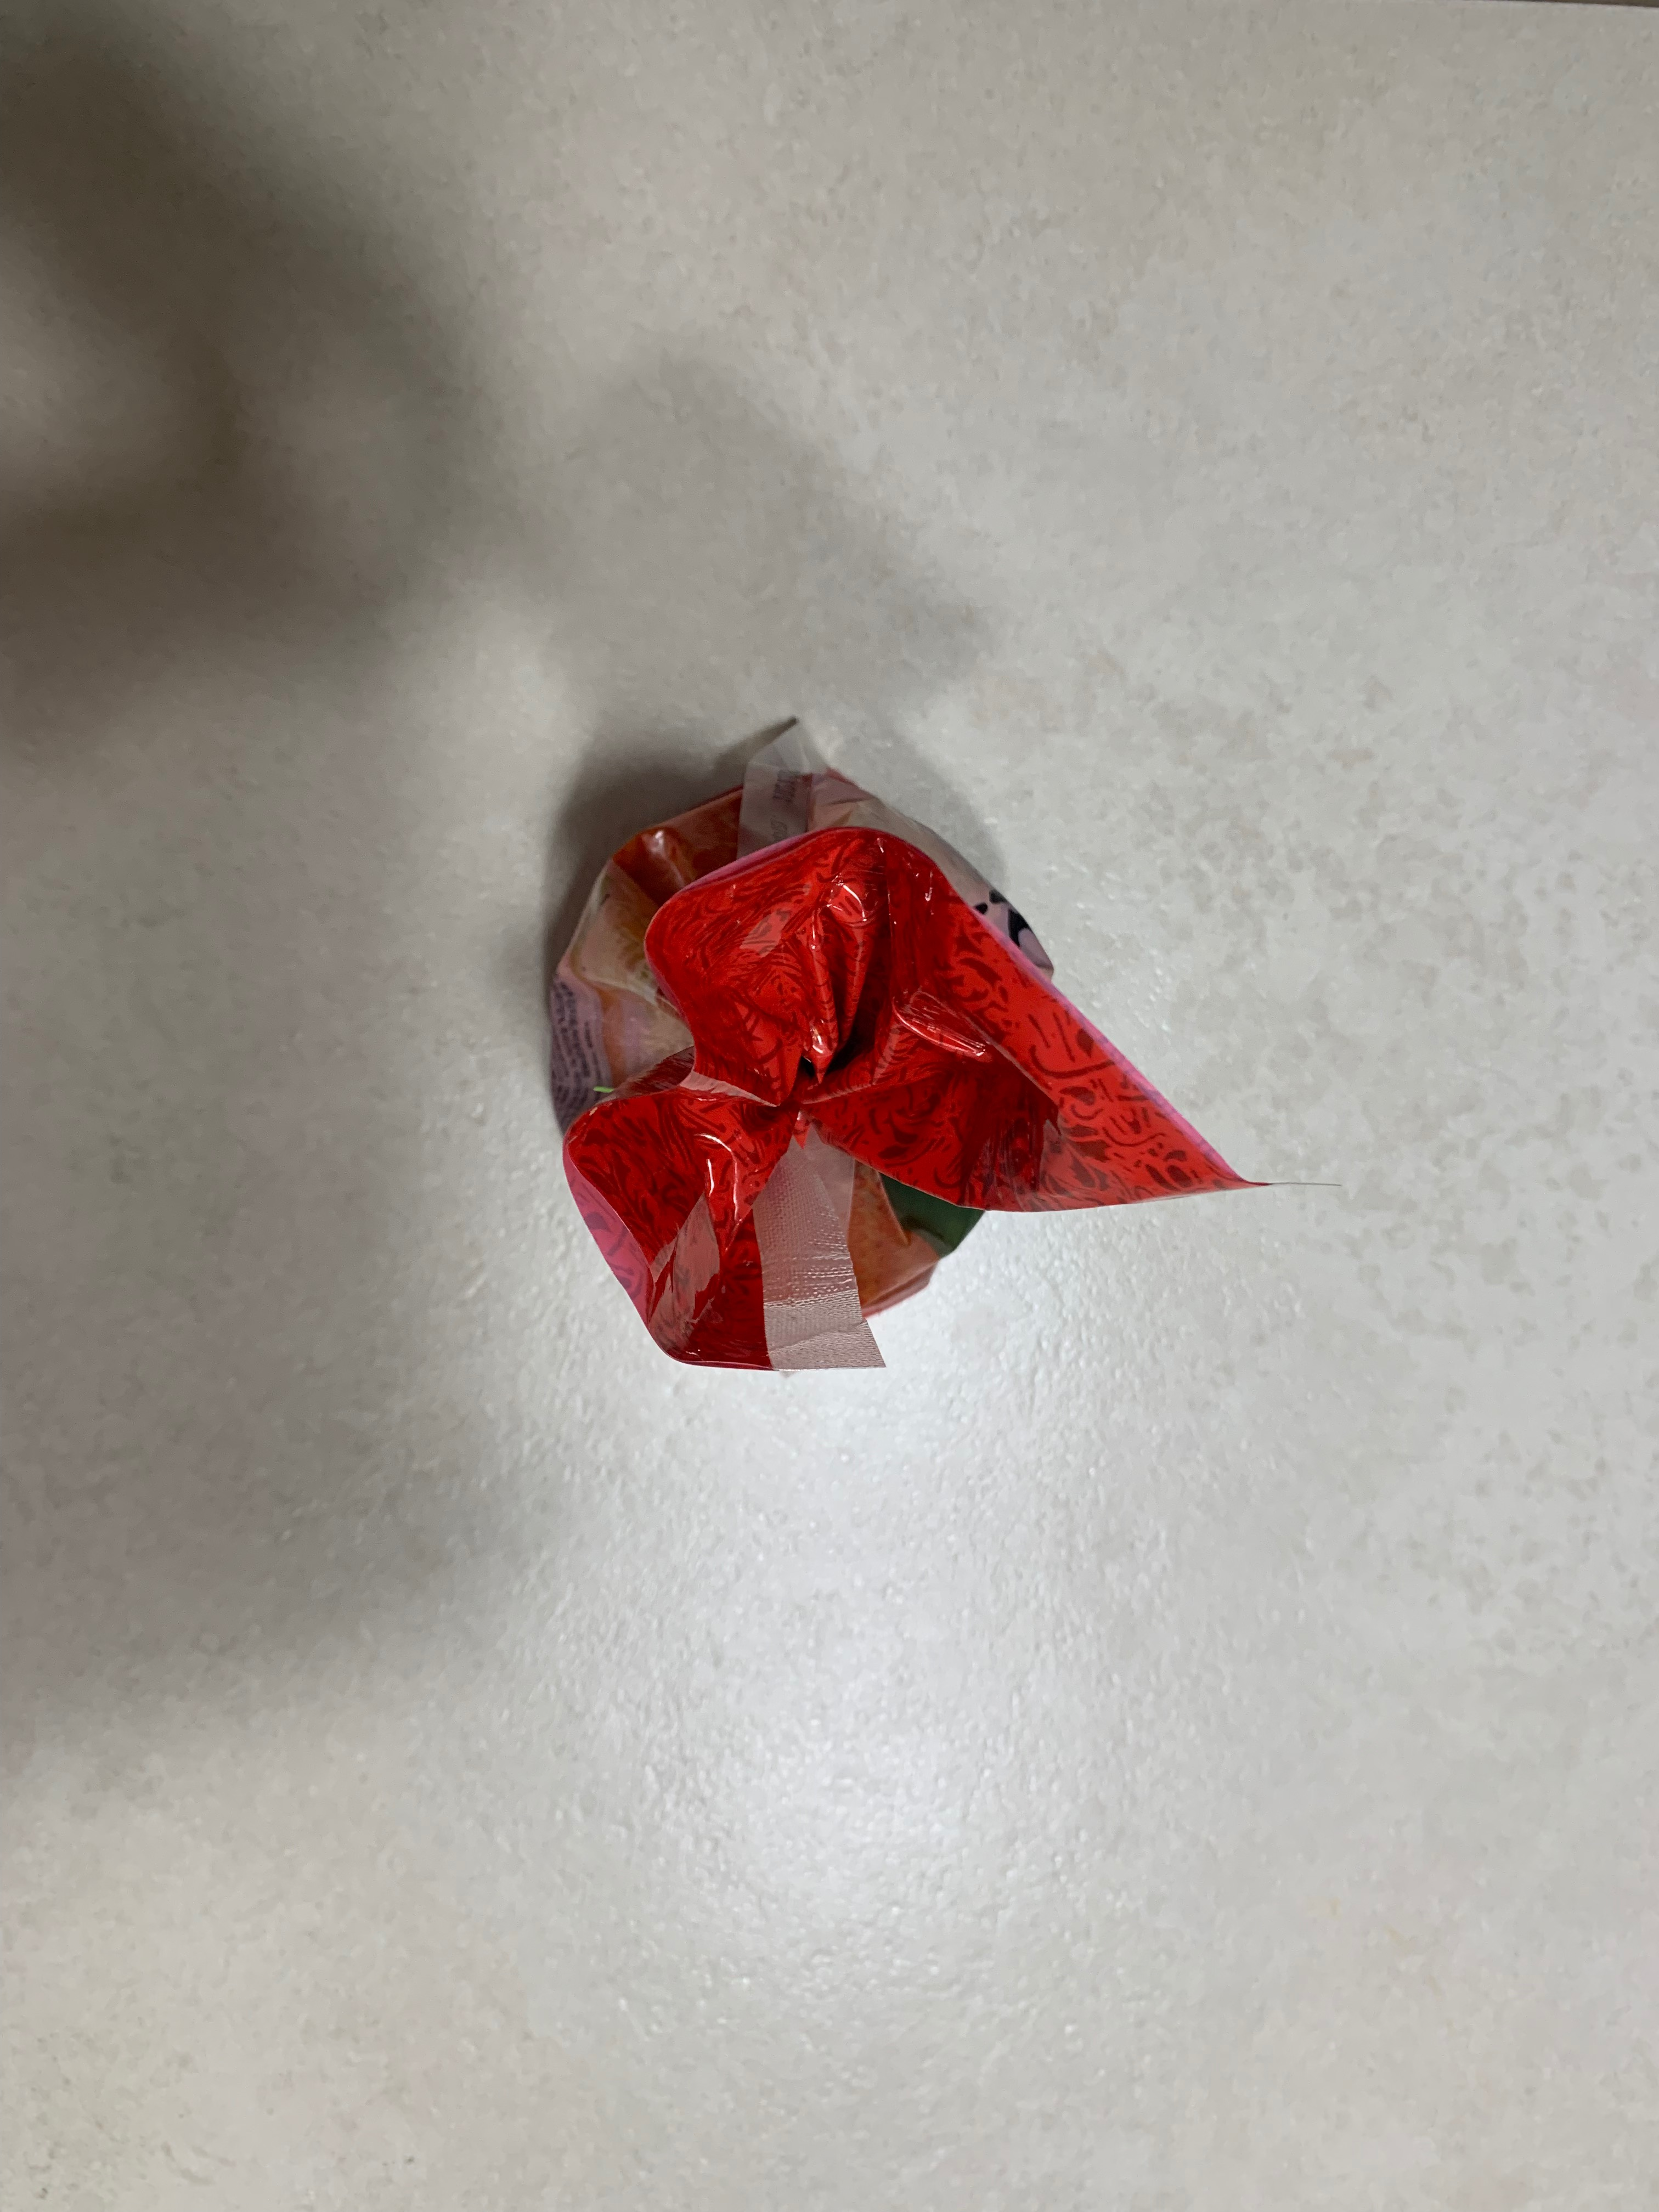kimchi: (556, 761, 1232, 1374)
